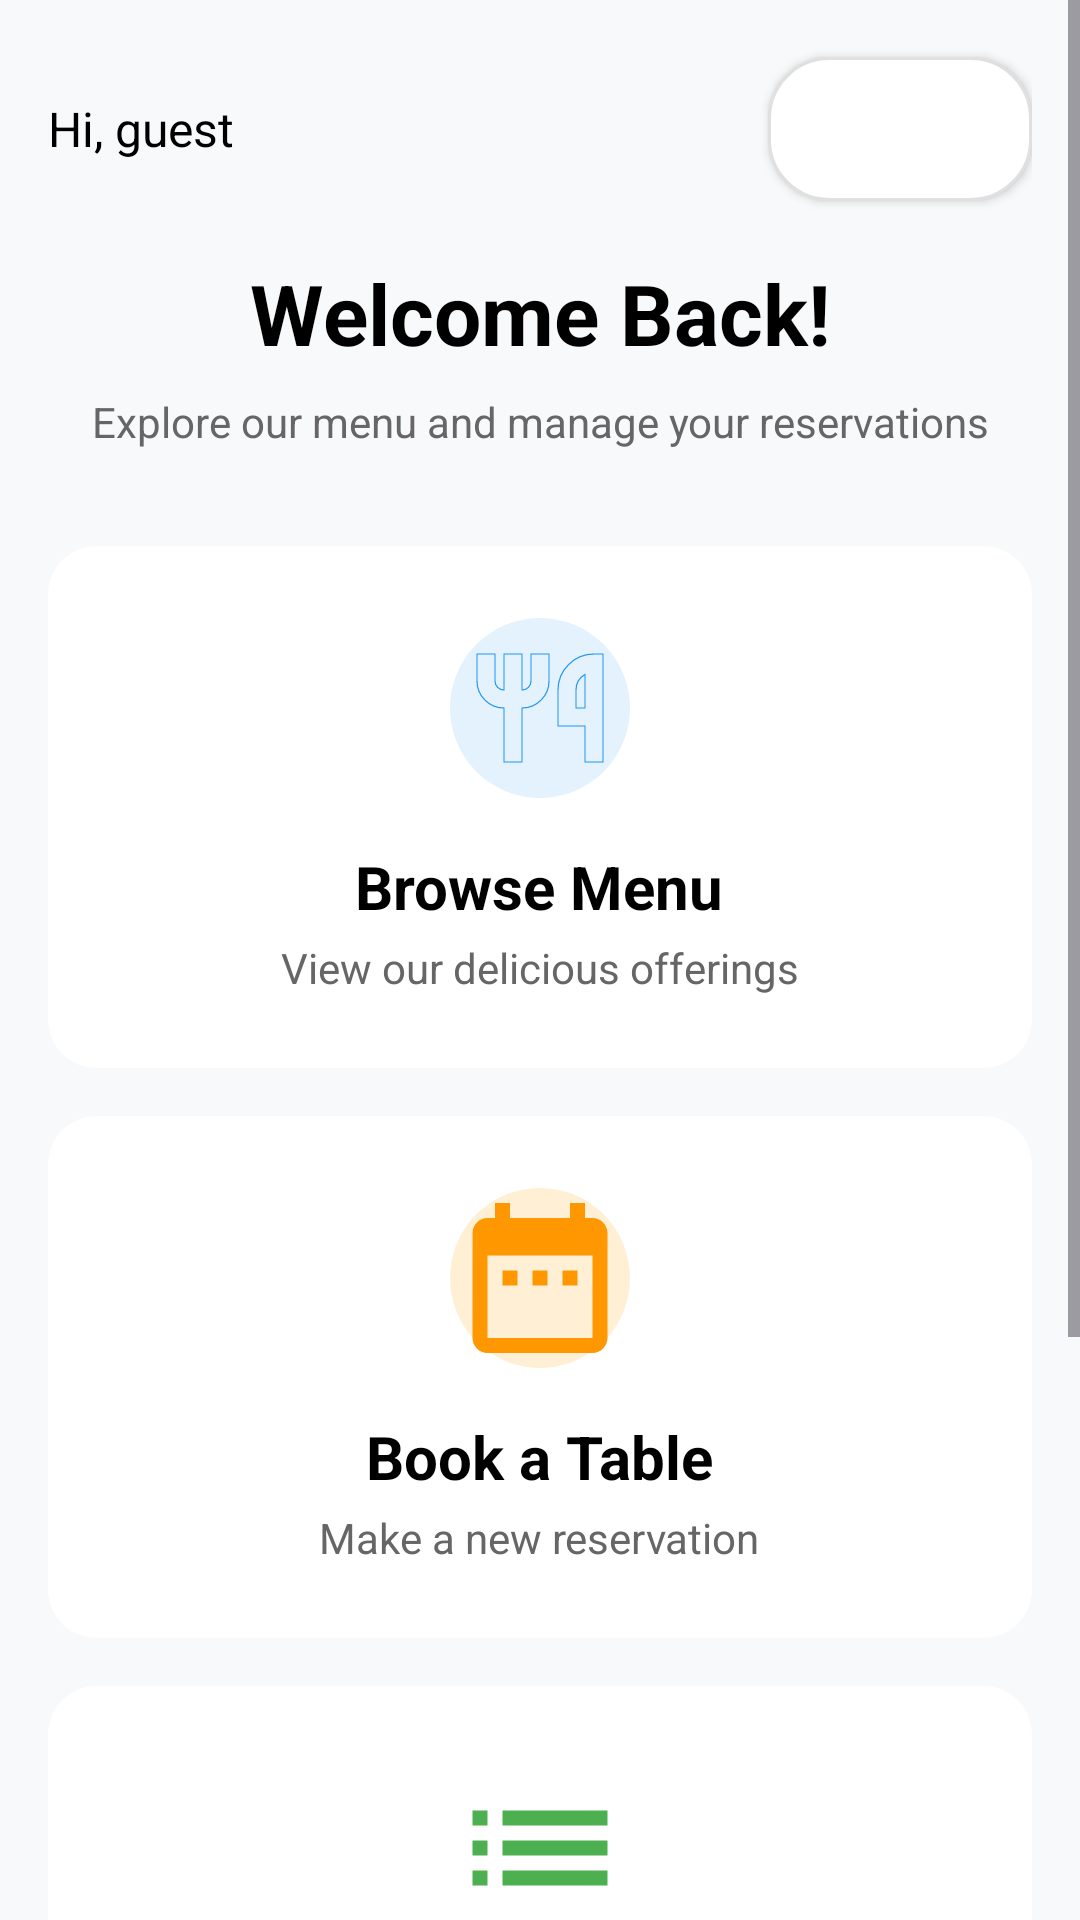

Point at icon controls on the screen. Image size 1080x1920, points as (x,y).
calendar: (540,1278)
list: (540,1848)
